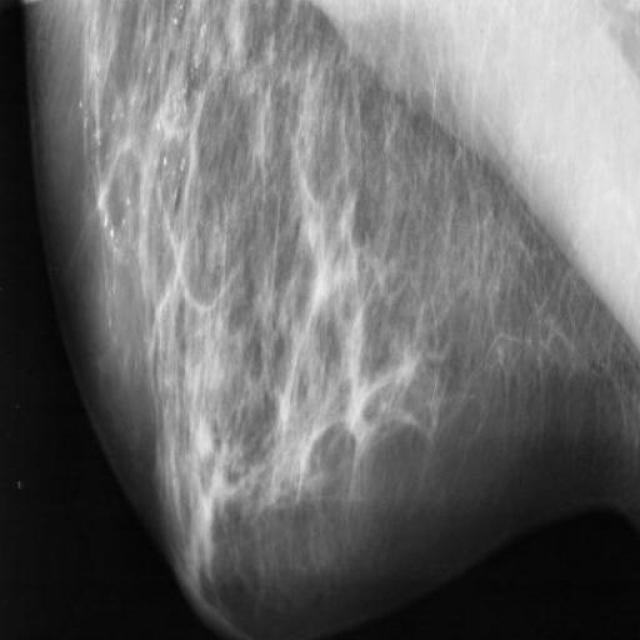cancer: (170, 401, 262, 605)
